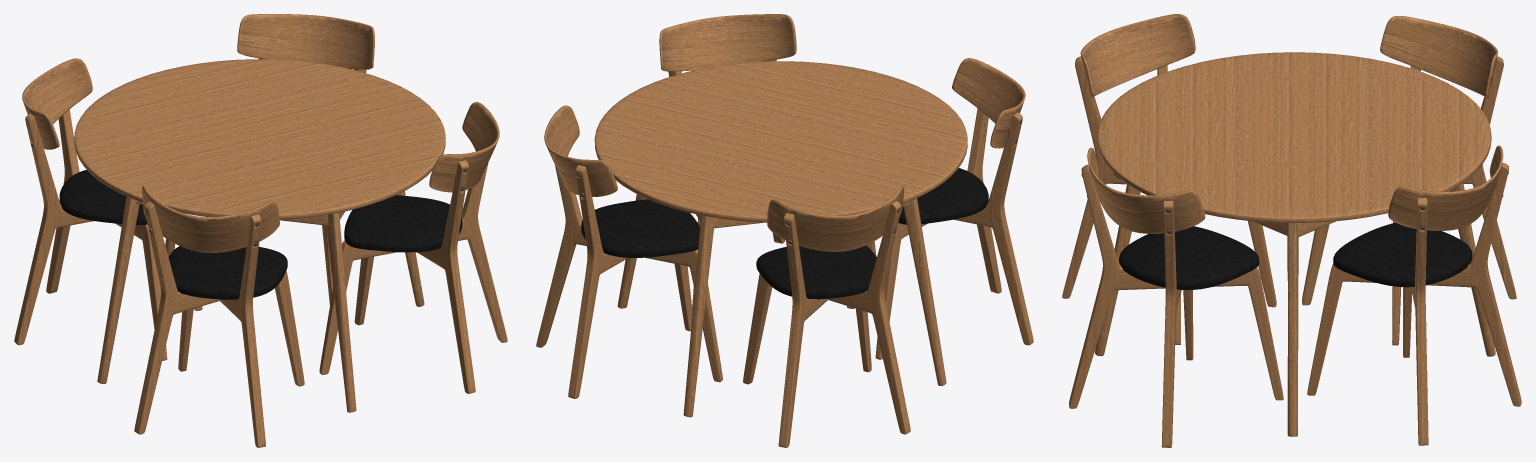
The model's file is dining_table (1).glb.
The picture shows the model from 3 angles, left to right: view 1: azimuth 30°, elevation 25°; view 2: azimuth 150°, elevation 25°; view 3: azimuth 270°, elevation 25°; orthographic projection. The views are drawn at different scales.
Visible parts, largest first — view 1: Cube.009_4, CHAIR.003_3, CHAIR.001_1, CHAIR_0, CHAIR.002_2; view 2: Cube.009_4, CHAIR_0, CHAIR.002_2, CHAIR.003_3, CHAIR.001_1; view 3: Cube.009_4, CHAIR.001_1, CHAIR.002_2, CHAIR.003_3, CHAIR_0.
Part boxes in pixels (x1,y1,x2,y2): Cube.009_4: [74, 59, 445, 412]; CHAIR.003_3: [134, 186, 304, 447]; CHAIR.001_1: [319, 102, 507, 393]; CHAIR_0: [14, 58, 202, 360]; CHAIR.002_2: [237, 14, 374, 304]; Cube.009_4: [594, 61, 967, 417]; CHAIR_0: [743, 185, 910, 447]; CHAIR.002_2: [536, 105, 722, 398]; CHAIR.003_3: [847, 58, 1033, 359]; CHAIR.001_1: [659, 14, 796, 309]; Cube.009_4: [1095, 52, 1495, 436]; CHAIR.001_1: [1069, 147, 1283, 447]; CHAIR.002_2: [1307, 145, 1521, 445]; CHAIR.003_3: [1062, 14, 1276, 344]; CHAIR_0: [1302, 16, 1516, 345].
Size of the model in its own units: 17.82 by 10.9 by 17.91.
Materials: 3 (2 with a texture image).
